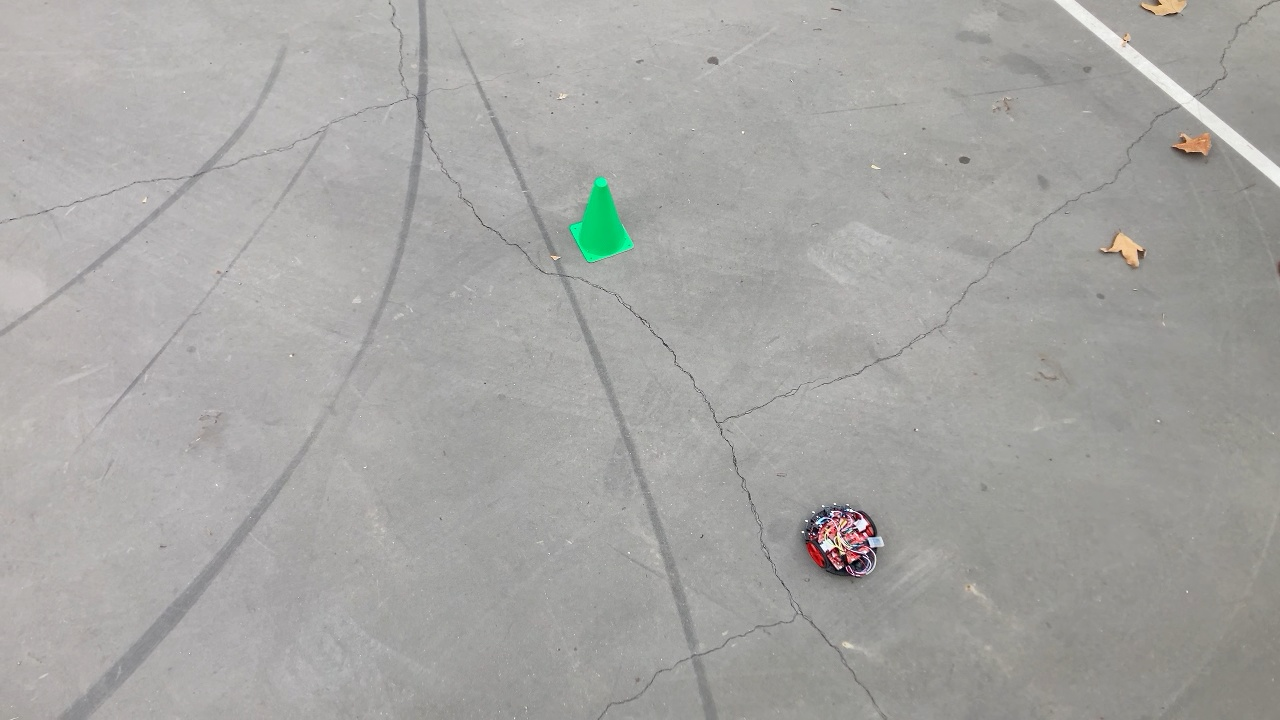green_cone: (566, 174, 638, 265)
robot: (795, 500, 892, 586)
